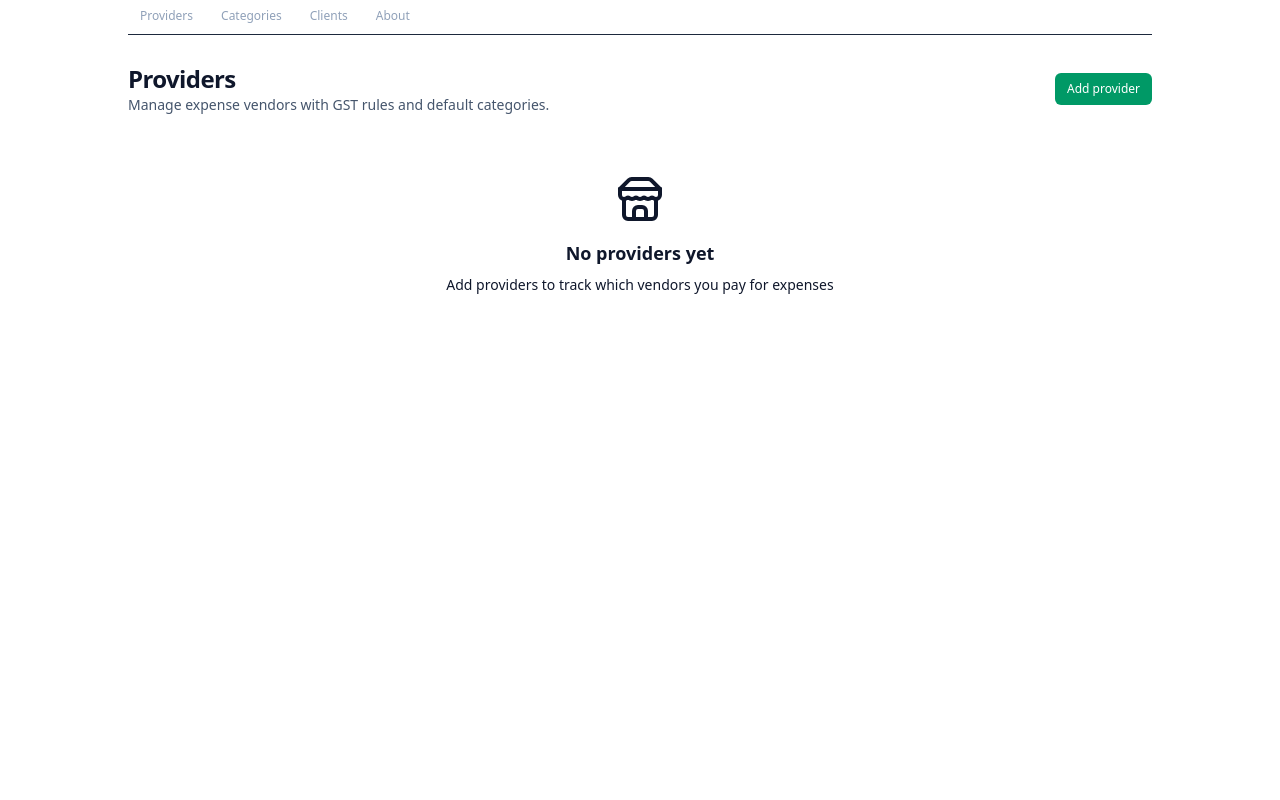
ProvidersPage › opens create modal when Add provider button is clicked
The width and height of the screenshot is (1280, 800).
Click the button "Add provider".
click(1104, 89)  # box [1055, 73, 1152, 105]
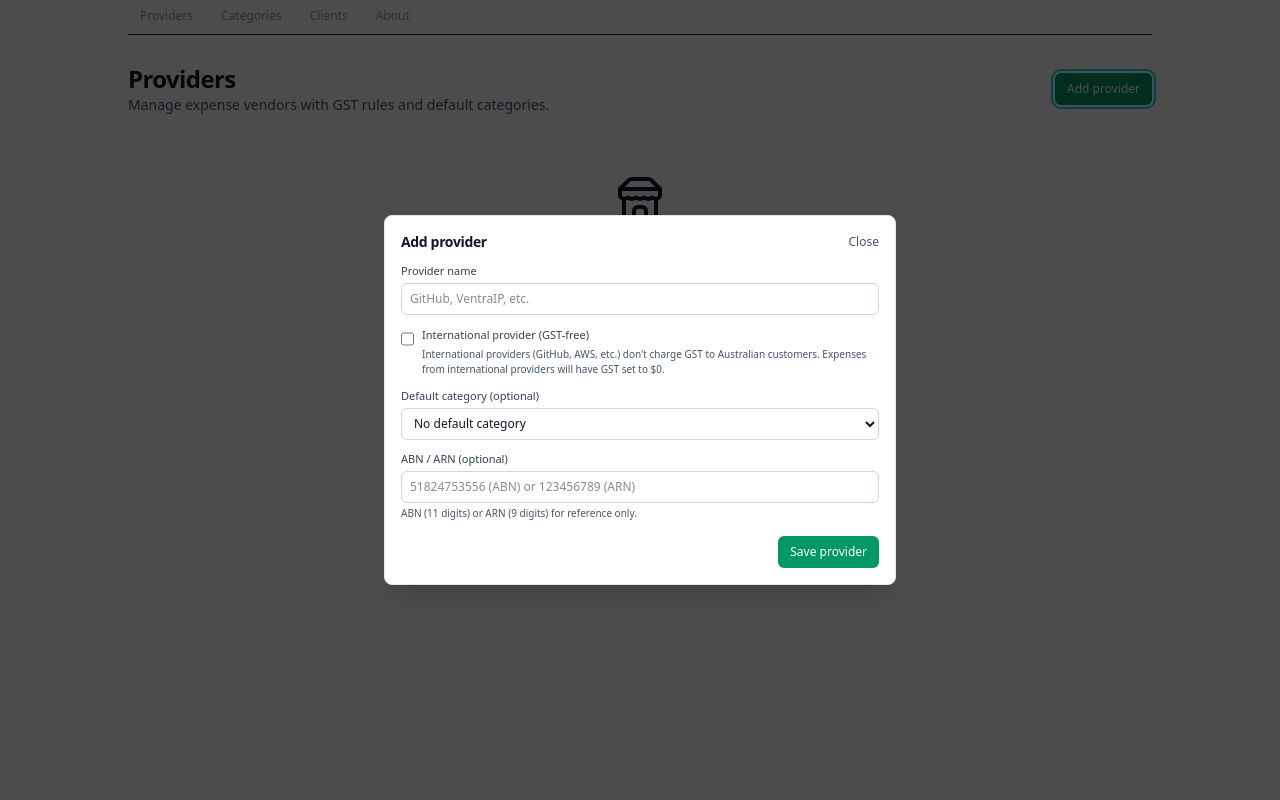
Expected: the dialog "Add provider" is shown
Expected: the field labelled "Provider name" is shown, [401, 283, 879, 315]
